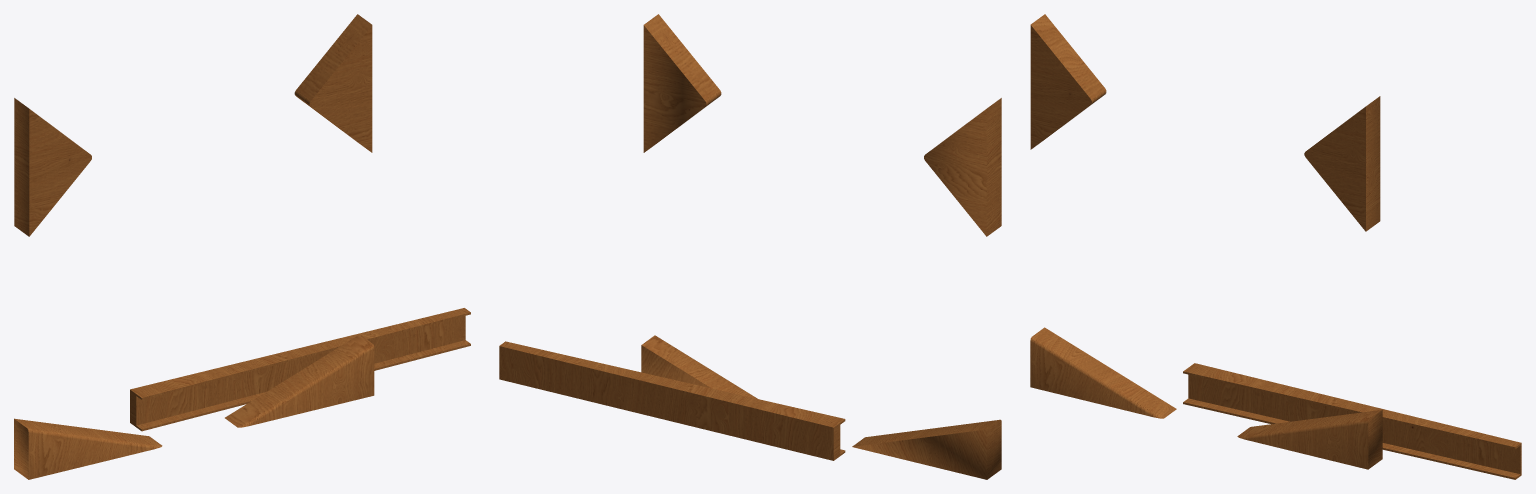
The model's file is pinballbaseaccesaly.fbx.
3 views of the same model, side by side, from view 1: azimuth 30°, elevation 25°; view 2: azimuth 150°, elevation 25°; view 3: azimuth 330°, elevation 25° (orthographic). The views are drawn at different scales.
Parts seen in each view (by area): view 1: pinballbaseaccesaly; view 2: pinballbaseaccesaly; view 3: pinballbaseaccesaly.
Boxes of the visible parts, left/top/right/bottom form: pinballbaseaccesaly: left=14, top=14, right=470, bottom=479; pinballbaseaccesaly: left=499, top=14, right=1001, bottom=479; pinballbaseaccesaly: left=1030, top=14, right=1521, bottom=479.
Size of the model in its own units: 223 by 169 by 27.66.
